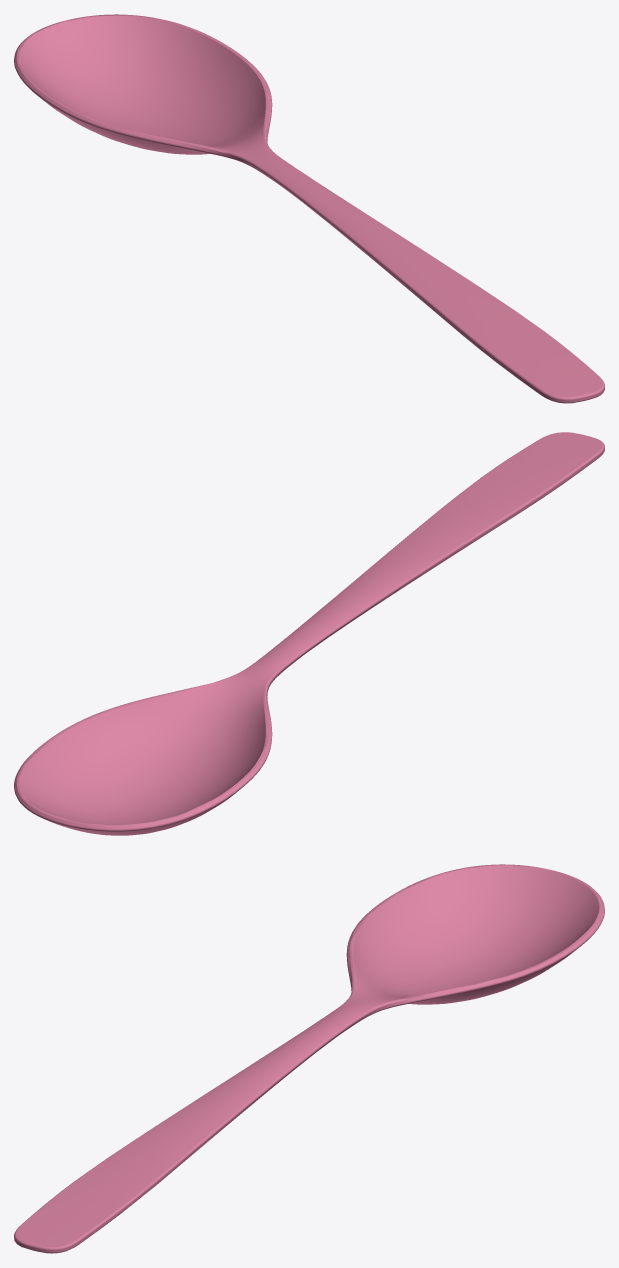
Rendered from spoon_mopsig.glb.
3 renders of one model, top to bottom at view 1: azimuth 30°, elevation 25°; view 2: azimuth 150°, elevation 25°; view 3: azimuth 330°, elevation 25°, orthographic.
Parts seen in each view (by area): view 1: Mesh_1; view 2: Mesh_1; view 3: Mesh_1.
Boxes of the visible parts, left/top/right/bottom form: Mesh_1: left=14, top=14, right=604, bottom=403; Mesh_1: left=14, top=432, right=604, bottom=835; Mesh_1: left=14, top=864, right=604, bottom=1253.
Size of the model in its own units: 0.044 by 0.013 by 0.2057.
